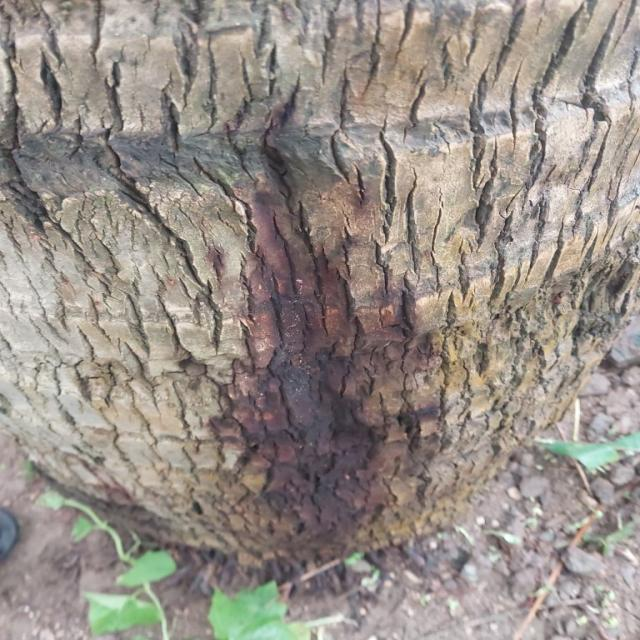stembleeding: (147, 100, 458, 552)
